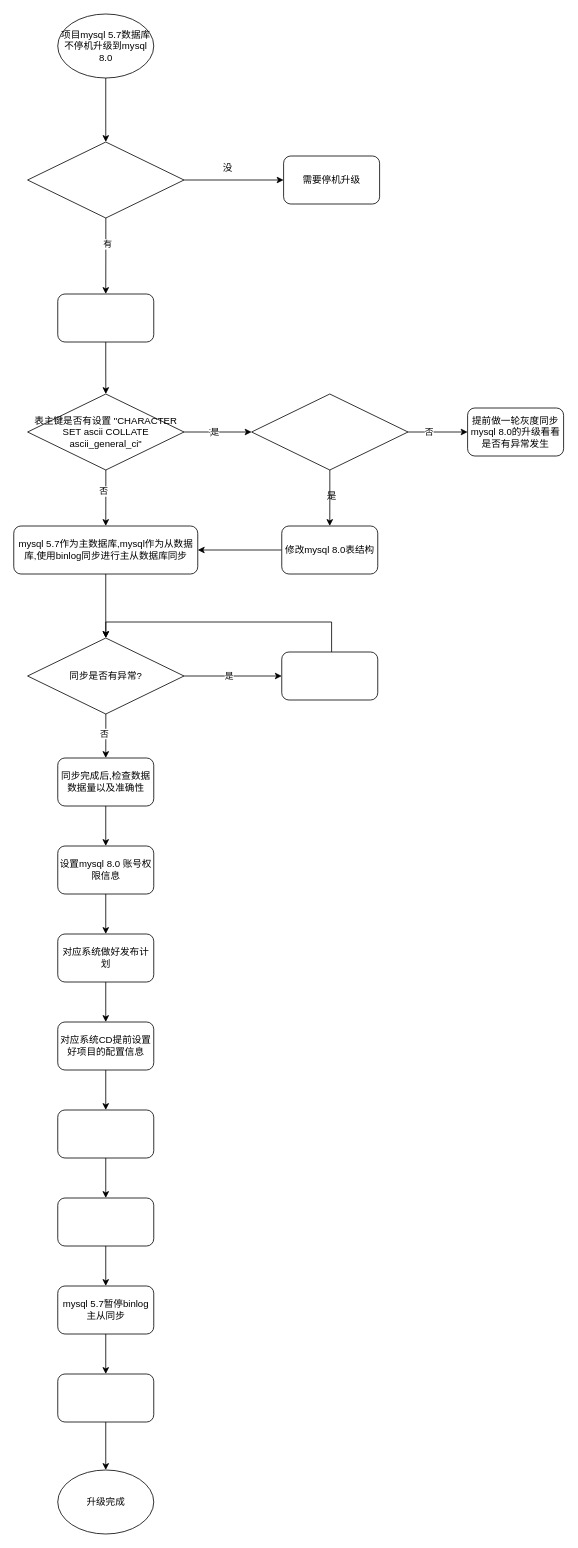
Image size: 578x1548. Some labels were removed from this diagram. The shapes that lost their labels are listed below. From the top down, each one's centre as x and y in pixels, then its label:
At (105,179): "mysql 5.7 数据库建库之初是否有开启binlog同步".
At (105,317): "创建mysql 8.0数据库与表结构".
At (329,431): "是否去掉?".
At (329,675): "检查异常信息逐个异常解决".
At (105,1133): "在非业务时间发布".
At (105,1221): "系统发布完成后检查项目接口能否正常访问数据库".
At (105,1397): "系统ICU 观察1-2周".
